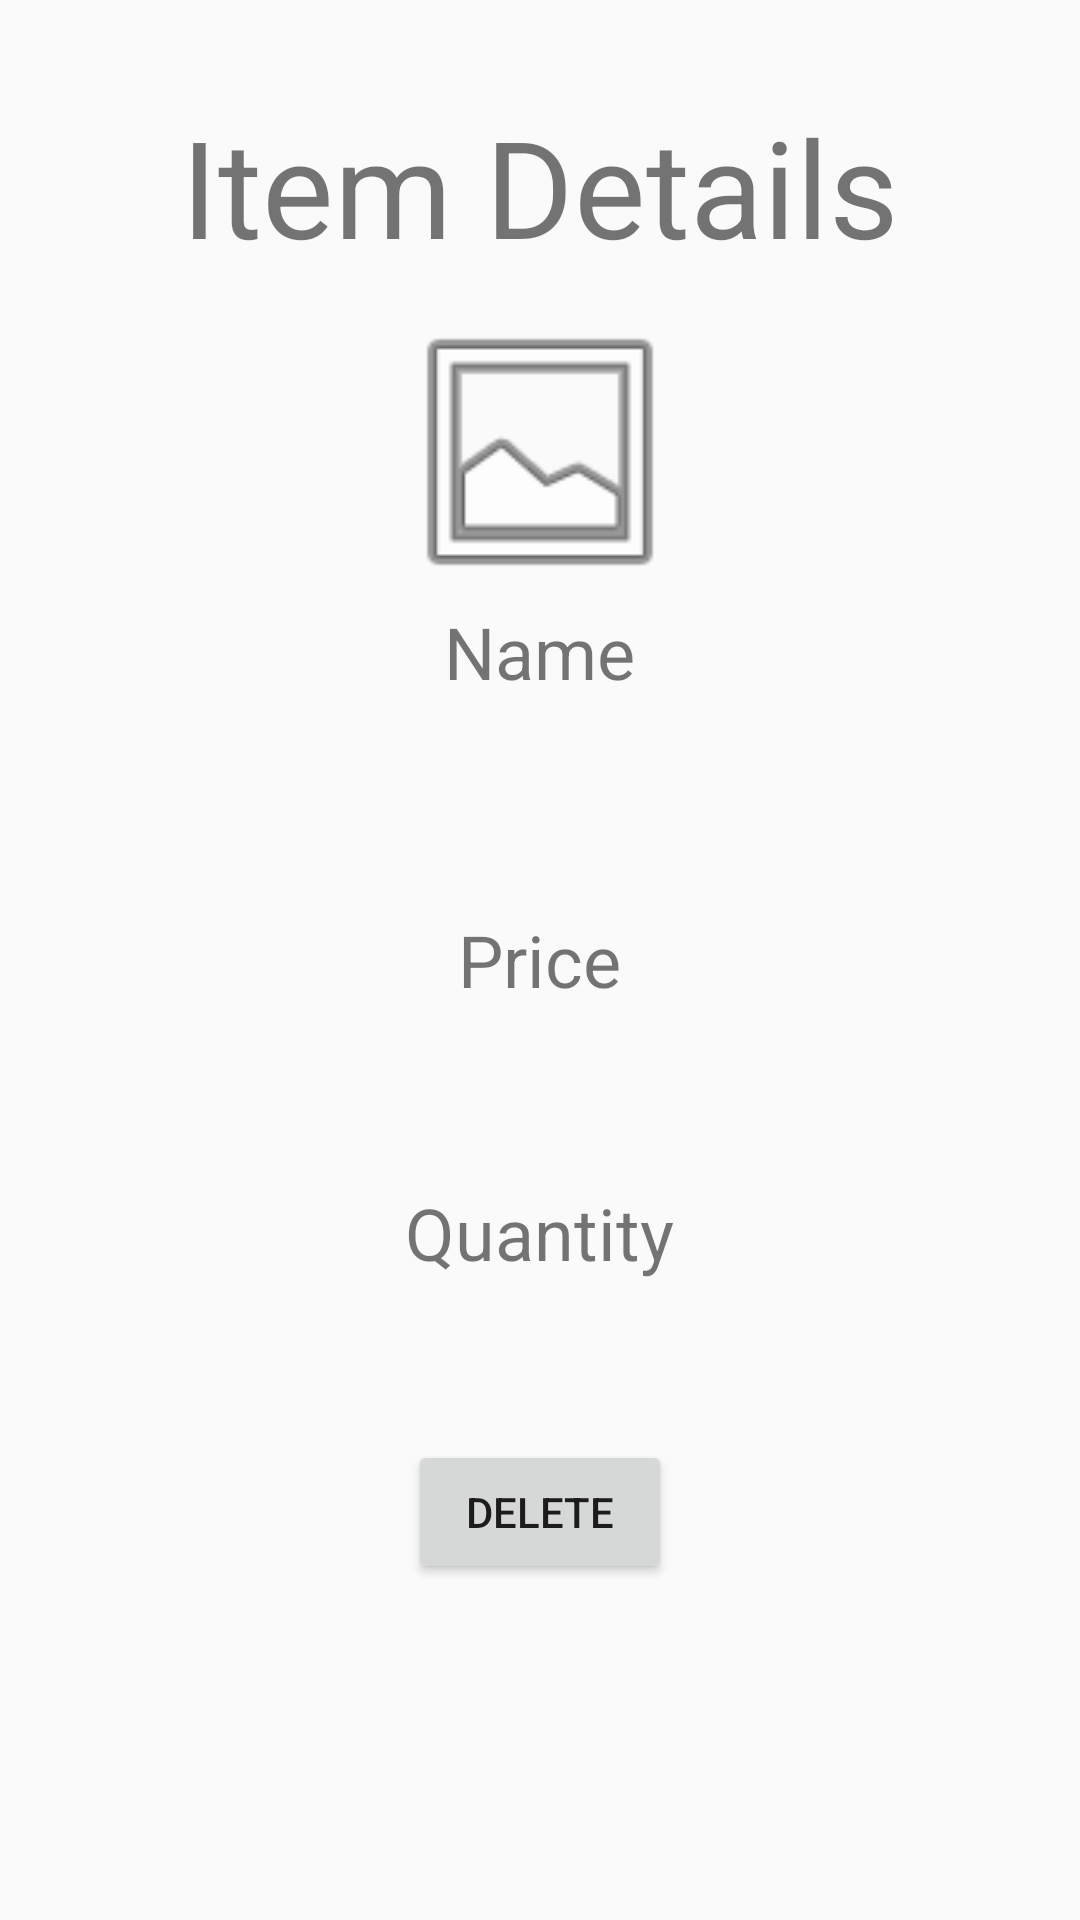

Named icons in this screenshot (1080w x 1920h) and their centers, (x=x, y=y):
gallery: (x=540, y=452)
